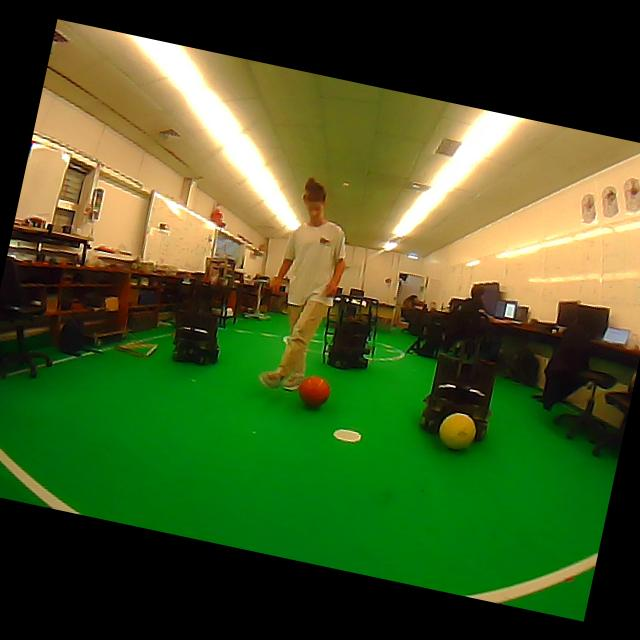ball: (438, 412, 476, 450), (298, 376, 330, 409)
robot: (421, 353, 496, 440), (172, 280, 230, 364), (322, 295, 378, 368)
